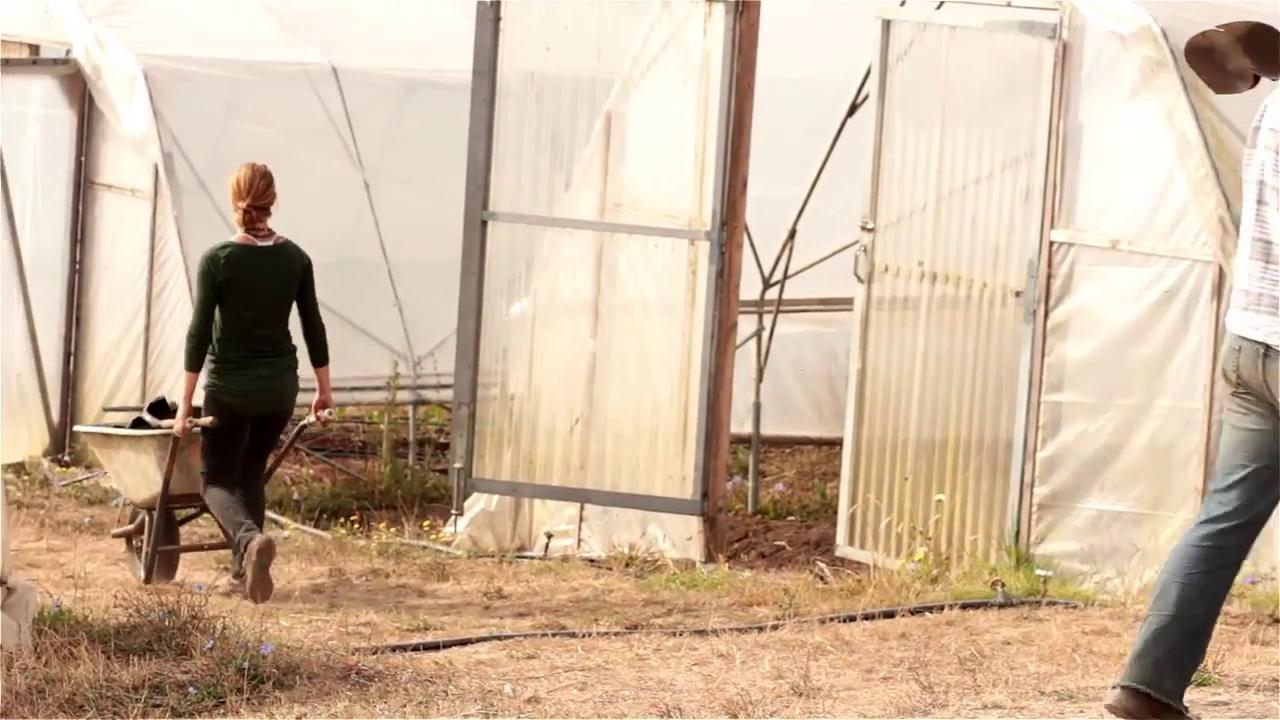victim: (1089, 19, 1280, 718), (168, 157, 352, 614)
